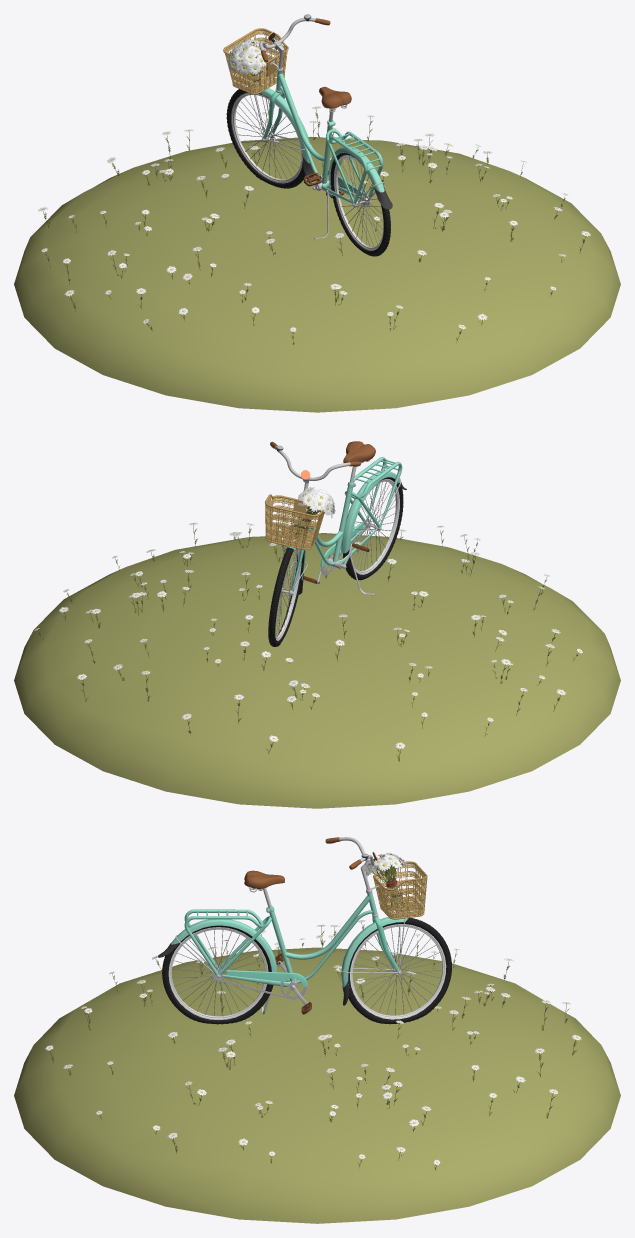
Rendered from retro__bike.glb.
The picture shows the model from 3 angles, top to bottom: view 1: azimuth 30°, elevation 25°; view 2: azimuth 150°, elevation 25°; view 3: azimuth 270°, elevation 25°; orthographic projection.
Parts seen in each view (by area): view 1: pCube112, polySurface1533, polySurface665, polySurface1118, polySurface1512, polySurface1343, polySurface1315, pCube109, polySurface810, polySurface1540; view 2: pCube112, polySurface1533, polySurface1512, polySurface1540, polySurface1343, polySurface1315, polySurface1118, polySurface665, pCube55, pCube110; view 3: pCube112, polySurface1533, polySurface1512, polySurface1118, polySurface665, polySurface1343, polySurface1315, polySurface1540, polySurface546, polySurface540, polySurface810, polySurface1188 (+5 smaller).
Part boxes in pixels (x1=…): pCube112: x1=14, y1=137, x2=620, y2=412; polySurface1533: x1=223, y1=28, x2=288, y2=94; polySurface665: x1=235, y1=95, x2=300, y2=179; polySurface1118: x1=330, y1=153, x2=390, y2=256; polySurface1512: x1=226, y1=86, x2=305, y2=188; polySurface1343: x1=337, y1=158, x2=383, y2=246; polySurface1315: x1=328, y1=131, x2=383, y2=204; pCube109: x1=236, y1=42, x2=266, y2=75; polySurface810: x1=278, y1=73, x2=324, y2=162; polySurface1540: x1=328, y1=146, x2=384, y2=192; pCube112: x1=14, y1=533, x2=620, y2=808; polySurface1533: x1=265, y1=494, x2=324, y2=549; polySurface1512: x1=268, y1=547, x2=304, y2=646; polySurface1540: x1=341, y1=470, x2=400, y2=553; polySurface1343: x1=351, y1=482, x2=396, y2=570; polySurface1315: x1=347, y1=457, x2=402, y2=525; polySurface1118: x1=343, y1=477, x2=403, y2=580; polySurface665: x1=275, y1=548, x2=299, y2=636; pCube55: x1=343, y1=441, x2=375, y2=462; pCube110: x1=288, y1=491, x2=335, y2=538; pCube112: x1=14, y1=947, x2=620, y2=1223; polySurface1533: x1=373, y1=861, x2=427, y2=919; polySurface1512: x1=348, y1=918, x2=451, y2=1024; polySurface1118: x1=162, y1=925, x2=273, y2=1024; polySurface665: x1=353, y1=927, x2=442, y2=1015; polySurface1343: x1=172, y1=930, x2=264, y2=1016; polySurface1315: x1=184, y1=909, x2=263, y2=975; polySurface1540: x1=171, y1=919, x2=276, y2=971; polySurface546: x1=341, y1=917, x2=408, y2=987; polySurface540: x1=350, y1=924, x2=446, y2=1019; polySurface810: x1=285, y1=895, x2=369, y2=959; polySurface1188: x1=227, y1=970, x2=307, y2=986.
Bounding box in the file's own units: 87.37 × 39.41 × 87.37.
